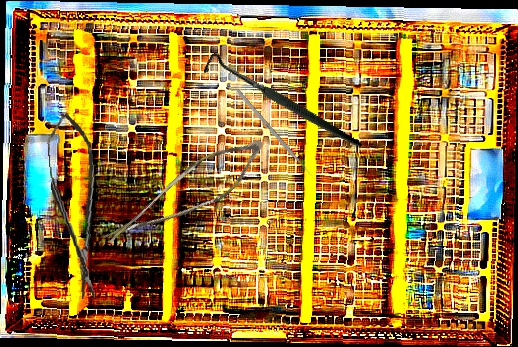Hook Surgical: (198, 11, 363, 198)
Micro Scissor: (99, 113, 272, 280), (44, 111, 106, 301)
Pusher: (235, 89, 317, 181)
